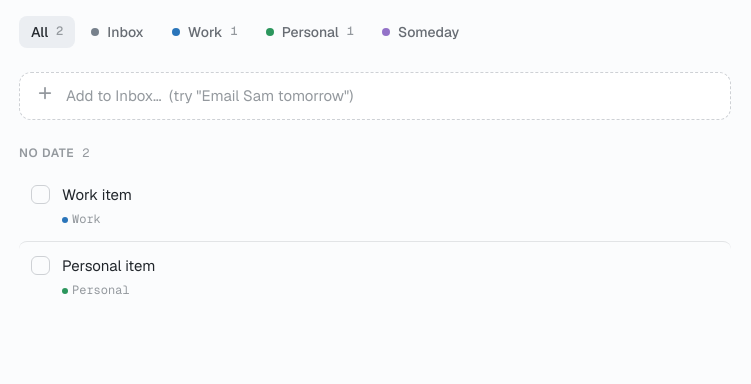
Tasks › adds a task via quick-add
In the field with placeholder "Add to Inbox… (try \"Email Sam tomorrow\")": {"x": 390, "y": 96} [66,84,714,108], type "Buy groceries"
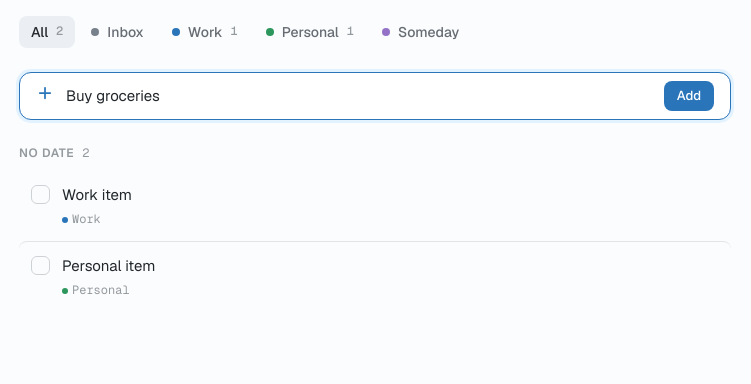
Press Enter
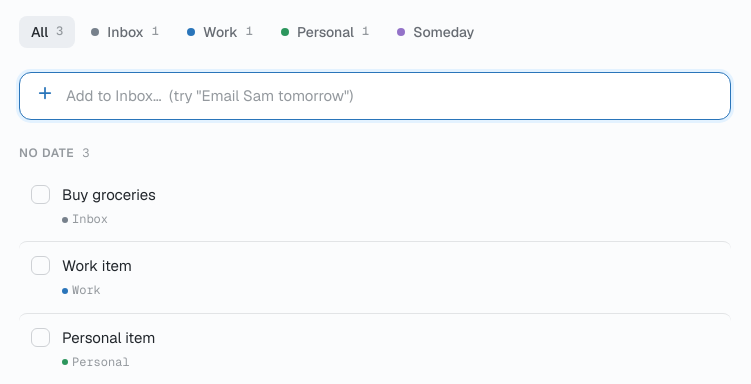
Check: the text "Buy groceries" is shown, box [62,185,156,204]
